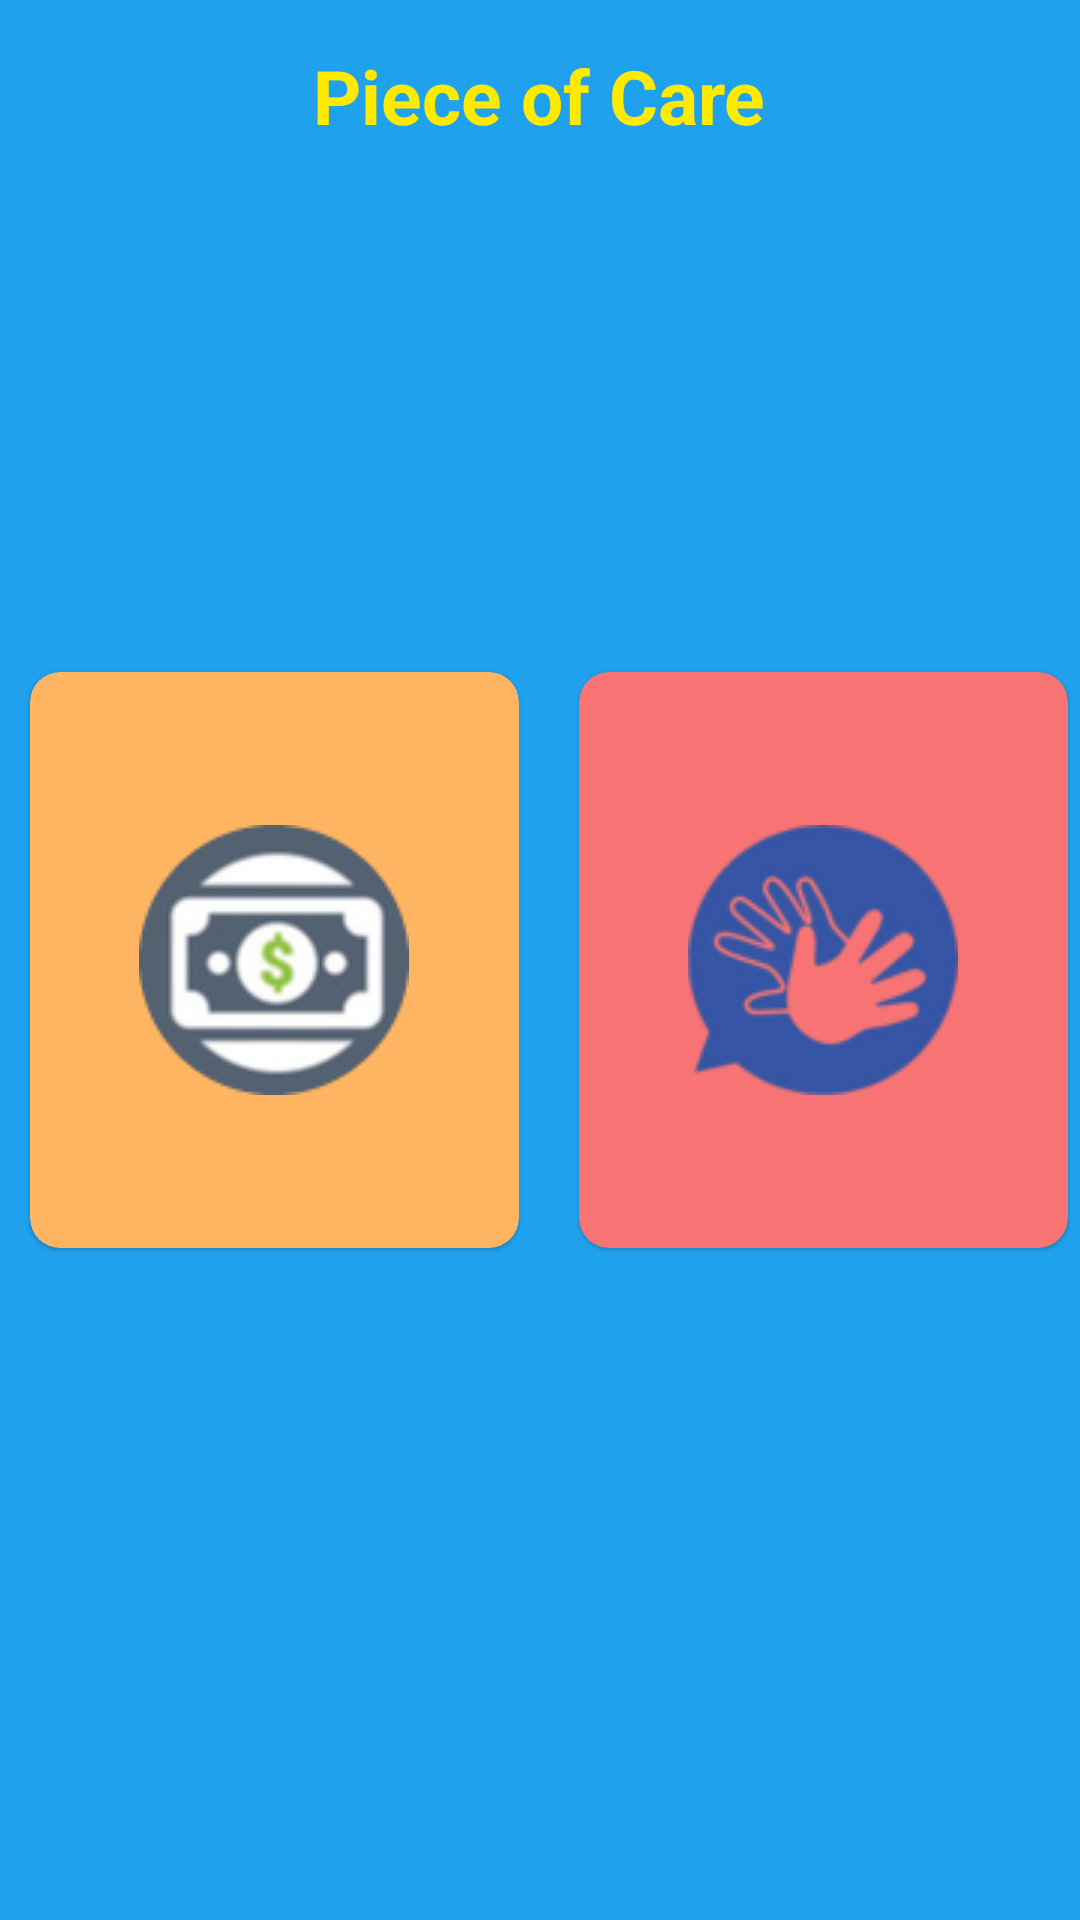

Where to tap for icons on this 1080 x 1920 app screen, as (x=x, y=y):
money: (x=274, y=960)
sign: (x=823, y=960)
